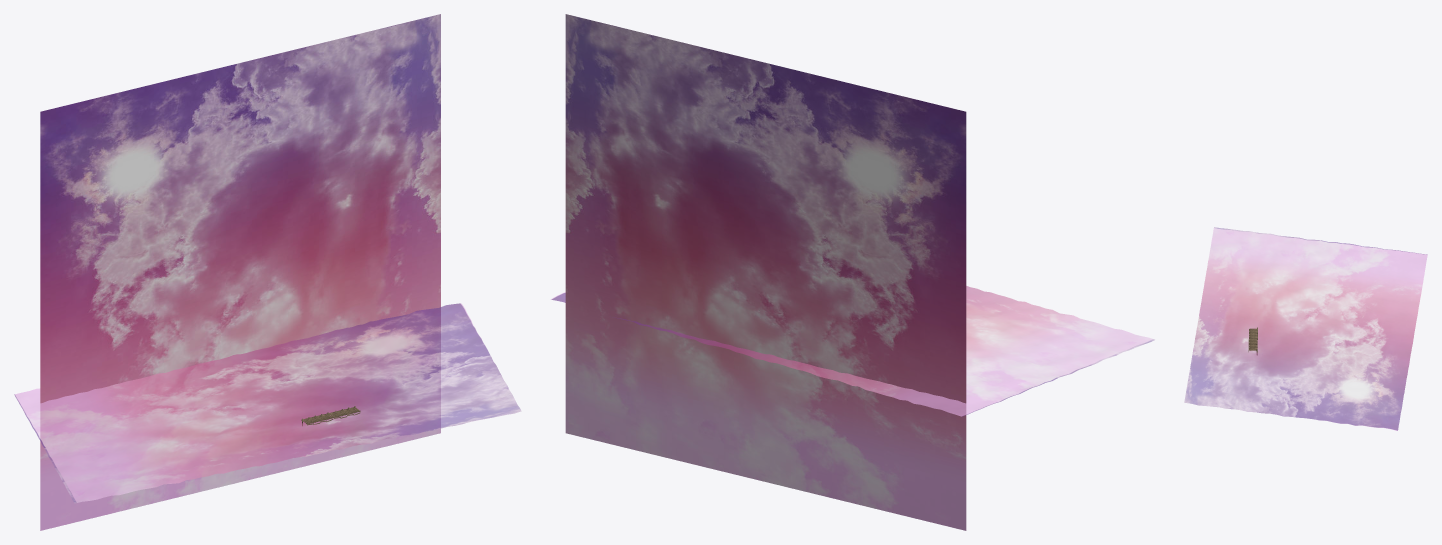
The model's file is BridgeofDeception.glb.
The picture shows the model from 3 angles, left to right: view 1: azimuth 30°, elevation 25°; view 2: azimuth 150°, elevation 25°; view 3: azimuth 270°, elevation 25°; orthographic projection. The views are drawn at different scales.
Parts seen in each view (by area): view 1: Plane.001, PlaneShape_0.003; view 2: Plane.001, PlaneShape_0.003; view 3: PlaneShape_0.003.
Part boxes in pixels (left/top/right/bottom): Plane.001: left=40, top=14, right=440, bottom=530; PlaneShape_0.003: left=14, top=303, right=521, bottom=503; Plane.001: left=565, top=14, right=966, bottom=530; PlaneShape_0.003: left=551, top=286, right=1154, bottom=416; PlaneShape_0.003: left=1184, top=227, right=1427, bottom=430.
Size of the model in its own units: 238 by 192 by 120.
Materials: 3 (3 with a texture image).
